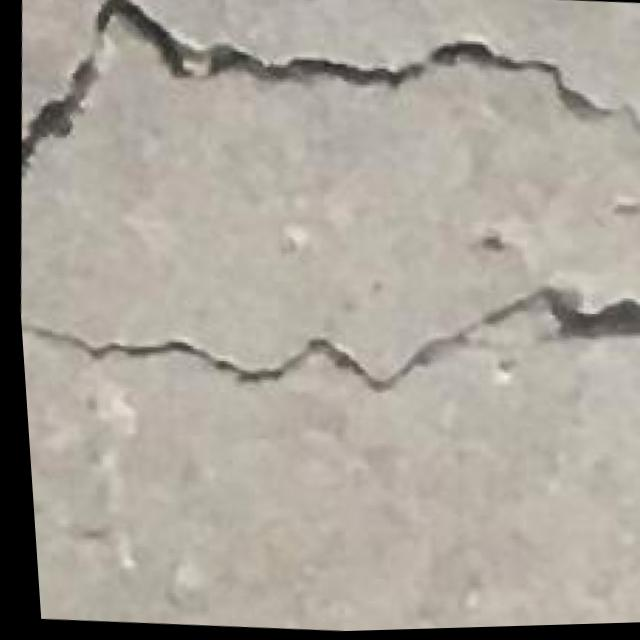Crack: (13, 239, 640, 425), (85, 0, 640, 175), (15, 44, 107, 180)
